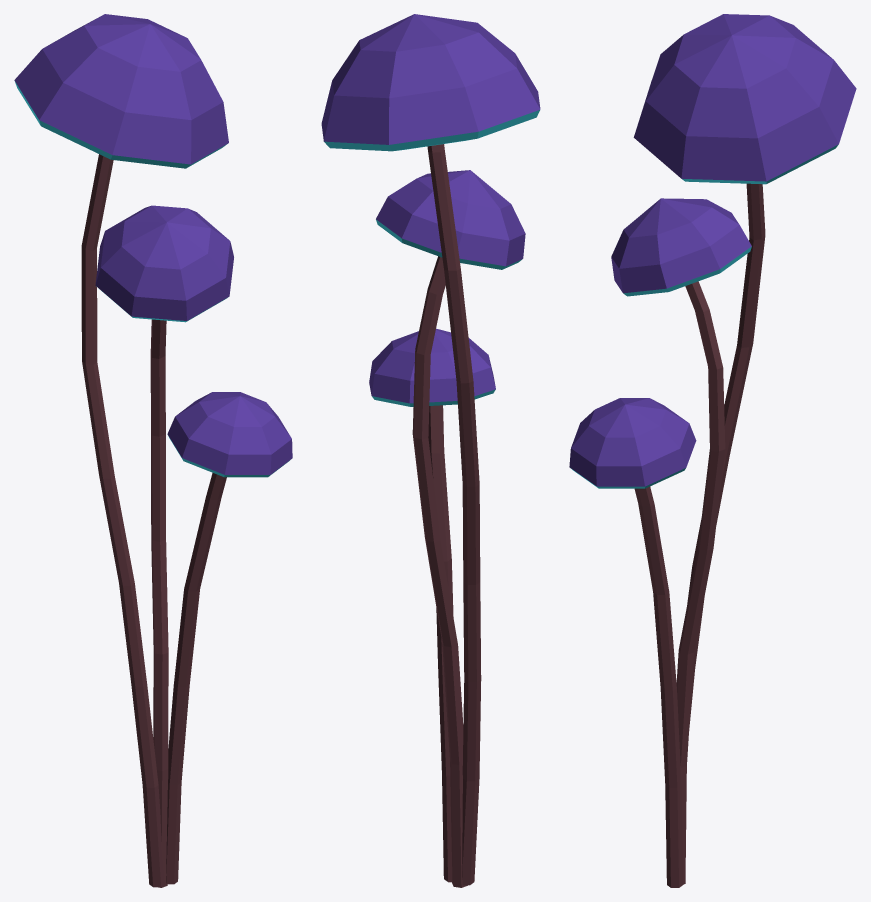
Rendered from scifi-tree-mushroom-big.fbx.
3 renders of one model, left to right at view 1: azimuth 30°, elevation 25°; view 2: azimuth 150°, elevation 25°; view 3: azimuth 270°, elevation 25°, orthographic. The views are drawn at different scales.
Parts seen in each view (by area): view 1: scifi-tree-mushroom-big; view 2: scifi-tree-mushroom-big; view 3: scifi-tree-mushroom-big.
Boxes of the visible parts, box(x1,y1,x2,y2) form: scifi-tree-mushroom-big: box(14, 14, 292, 887); scifi-tree-mushroom-big: box(321, 14, 540, 887); scifi-tree-mushroom-big: box(569, 14, 856, 887).
Size of the model in its own units: 1.95 by 7.8 by 2.37.
